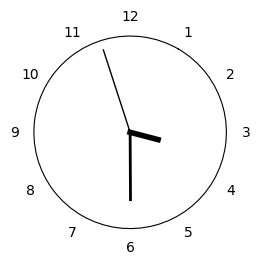12: (123, 9, 139, 22)
circle: (33, 37, 226, 229), (127, 130, 161, 143)
minutes: (127, 136, 132, 201)
seconds: (103, 49, 130, 130)
